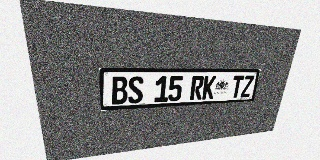1: (154, 76, 169, 102)
5: (168, 76, 183, 101)
B: (111, 76, 127, 105)
K: (202, 76, 216, 100)
R: (190, 76, 204, 100)
S: (128, 76, 143, 104)
T: (230, 76, 244, 98)
Z: (240, 75, 254, 97)
